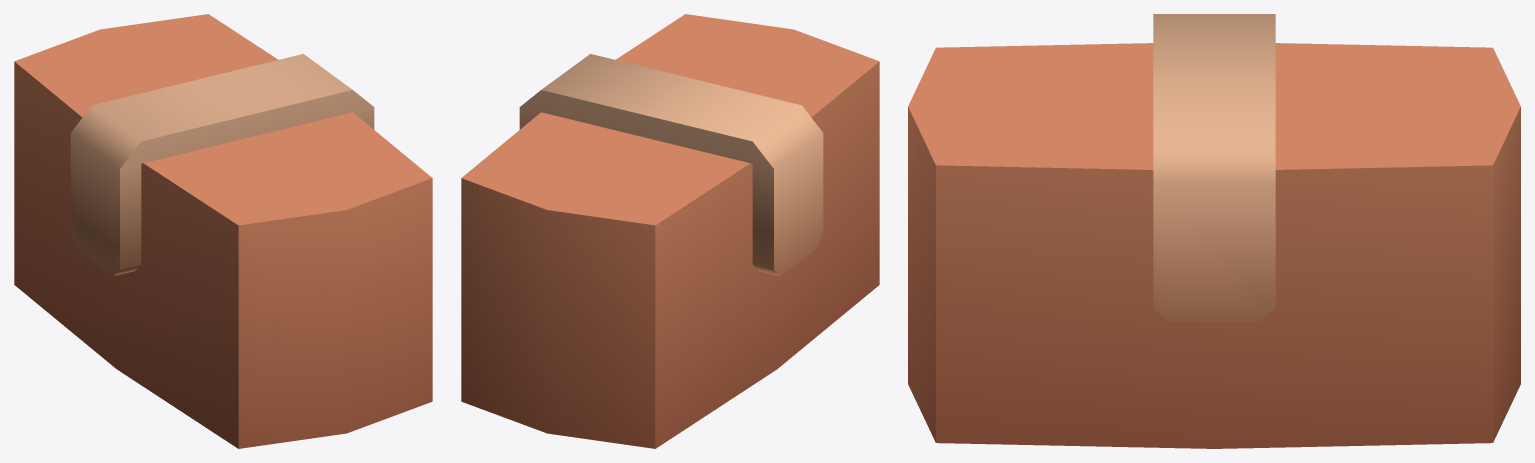
The model's file is box_wide.glb.
3 views of the same model, side by side, from view 1: azimuth 30°, elevation 25°; view 2: azimuth 150°, elevation 25°; view 3: azimuth 270°, elevation 25° (orthographic). The views are drawn at different scales.
Parts seen in each view (by area): view 1: box-wide; view 2: box-wide; view 3: box-wide.
Boxes of the visible parts, x1,y1,x2,y2 form: box-wide: (14,14,432,448); box-wide: (461,14,879,448); box-wide: (908,14,1520,448).
Size of the model in its own units: 0.595 by 0.55 by 1.
1 material, 1 textured.
